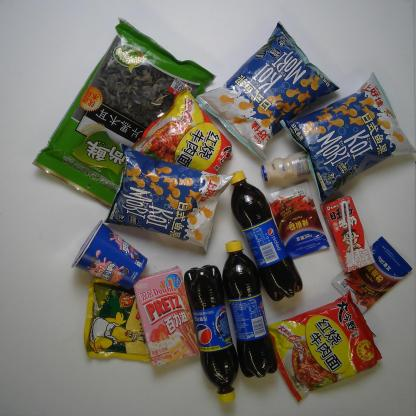Dessert: (132, 266, 201, 377), (67, 219, 152, 293)
Dried Food: (25, 17, 217, 212)
Drink: (223, 169, 302, 302), (216, 237, 288, 380), (182, 260, 247, 408)
Instant Noodles: (264, 290, 388, 400), (128, 87, 239, 179)
Milk: (319, 194, 387, 272), (257, 147, 316, 190)
Puffed Food: (194, 16, 343, 157), (281, 70, 416, 200), (95, 142, 240, 259)
Seasoner: (78, 277, 187, 383), (333, 232, 416, 316), (267, 183, 329, 264)
